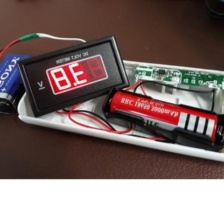battery: (107, 87, 221, 144), (0, 49, 38, 119)
